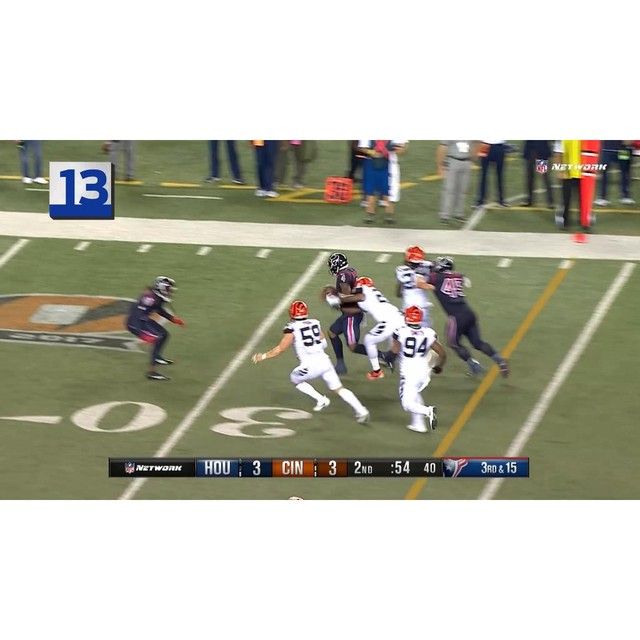american-football-player: (248, 297, 370, 424), (433, 256, 510, 380), (388, 305, 445, 434), (322, 253, 374, 379), (126, 276, 186, 378), (352, 277, 403, 378), (393, 245, 435, 325)
